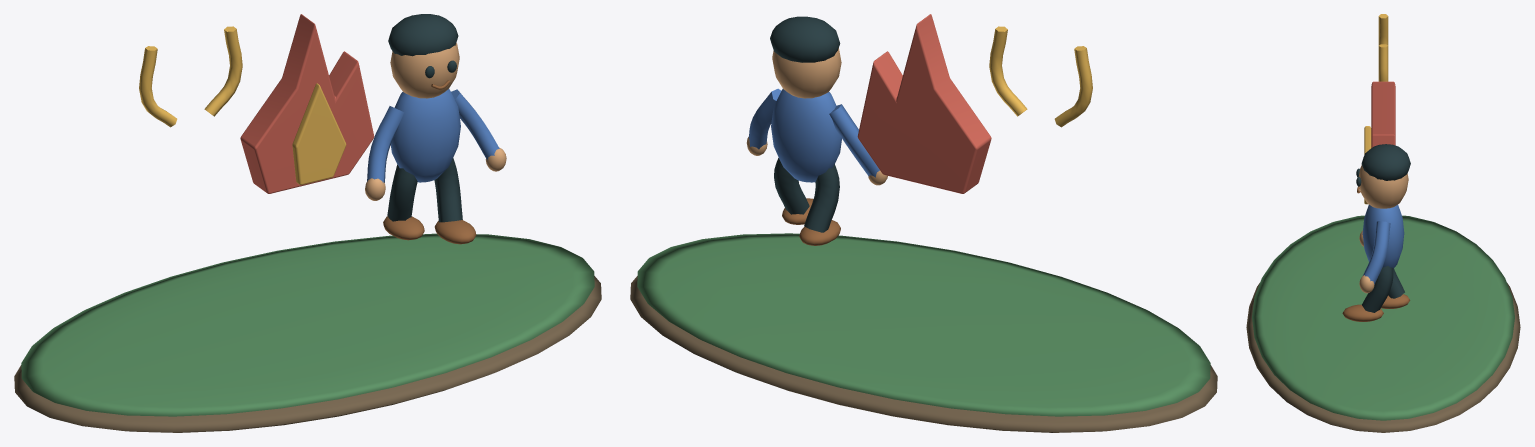
The model's file is horns-fire.glb.
3 renders of one model, left to right at view 1: azimuth 30°, elevation 25°; view 2: azimuth 150°, elevation 25°; view 3: azimuth 270°, elevation 25°, orthographic. The views are drawn at different scales.
Visible parts, largest first — view 1: horns-fire_surface_01, horns-fire_surface_07, horns-fire_surface_00, horns-fire_surface_06, horns-fire_surface_02, horns-fire_surface_04, horns-fire_surface_03, horns-fire_surface_05; view 2: horns-fire_surface_01, horns-fire_surface_07, horns-fire_surface_00, horns-fire_surface_06, horns-fire_surface_04, horns-fire_surface_03, horns-fire_surface_02, horns-fire_surface_05; view 3: horns-fire_surface_01, horns-fire_surface_00, horns-fire_surface_04, horns-fire_surface_06, horns-fire_surface_07, horns-fire_surface_03, horns-fire_surface_02, horns-fire_surface_05.
Boxes of the visible parts, x1=… form: horns-fire_surface_01: x1=21, y1=233, x2=594, y2=416; horns-fire_surface_07: x1=240, y1=14, x2=374, y2=193; horns-fire_surface_00: x1=14, y1=276, x2=601, y2=432; horns-fire_surface_06: x1=367, y1=89, x2=499, y2=182; horns-fire_surface_02: x1=139, y1=26, x2=346, y2=184; horns-fire_surface_04: x1=387, y1=14, x2=462, y2=222; horns-fire_surface_03: x1=365, y1=43, x2=506, y2=200; horns-fire_surface_05: x1=383, y1=80, x2=476, y2=244; horns-fire_surface_01: x1=637, y1=233, x2=1210, y2=416; horns-fire_surface_07: x1=857, y1=14, x2=991, y2=193; horns-fire_surface_00: x1=630, y1=276, x2=1217, y2=432; horns-fire_surface_06: x1=748, y1=88, x2=879, y2=182; horns-fire_surface_04: x1=770, y1=16, x2=840, y2=232; horns-fire_surface_03: x1=746, y1=48, x2=887, y2=185; horns-fire_surface_02: x1=989, y1=26, x2=1092, y2=127; horns-fire_surface_05: x1=782, y1=198, x2=840, y2=245; horns-fire_surface_01: x1=1252, y1=215, x2=1514, y2=420; horns-fire_surface_00: x1=1246, y1=283, x2=1520, y2=432; horns-fire_surface_04: x1=1356, y1=144, x2=1410, y2=312; horns-fire_surface_06: x1=1362, y1=204, x2=1404, y2=284; horns-fire_surface_07: x1=1371, y1=81, x2=1395, y2=147; horns-fire_surface_03: x1=1358, y1=165, x2=1408, y2=293; horns-fire_surface_02: x1=1364, y1=14, x2=1388, y2=204; horns-fire_surface_05: x1=1342, y1=186, x2=1410, y2=321.
Size of the model in its own units: 4.56 by 2.67 by 2.5.
